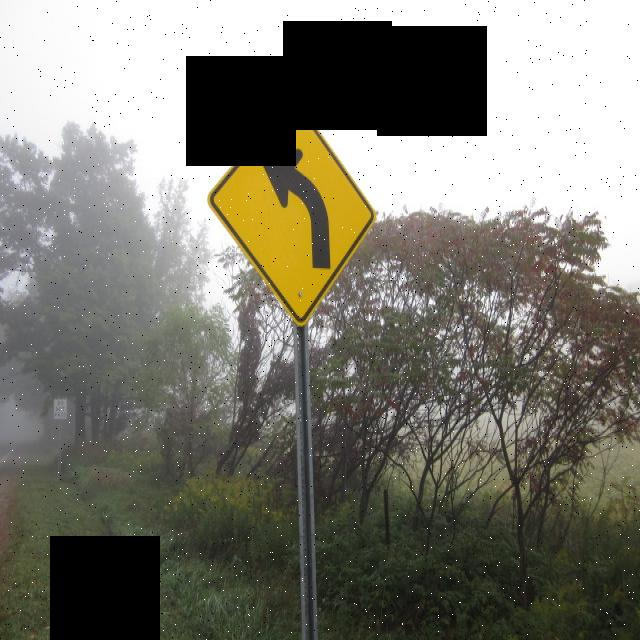regulatory: (204, 94, 381, 329)
